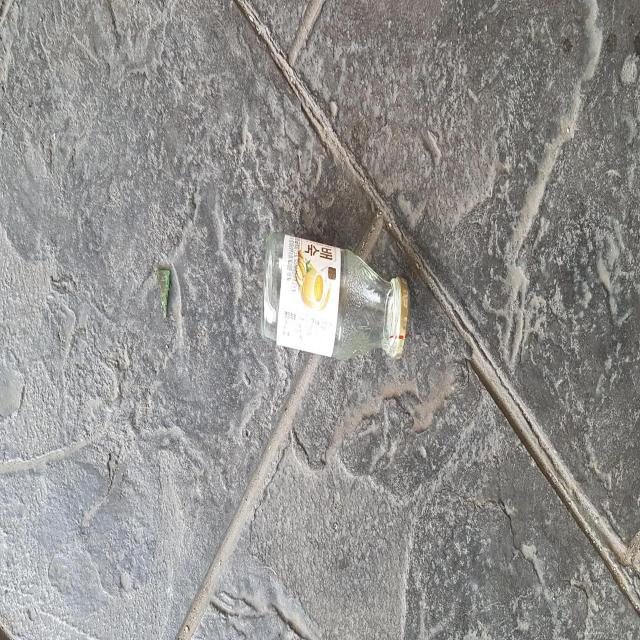glass: (261, 231, 409, 359)
